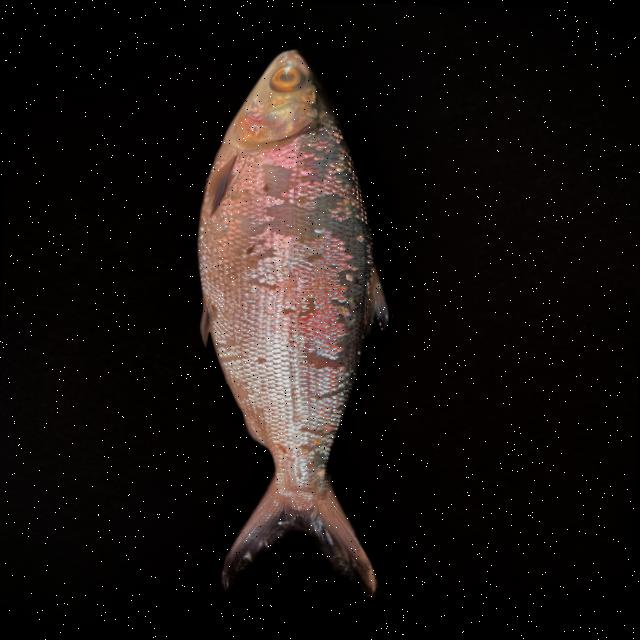880 g: (184, 45, 398, 598)
